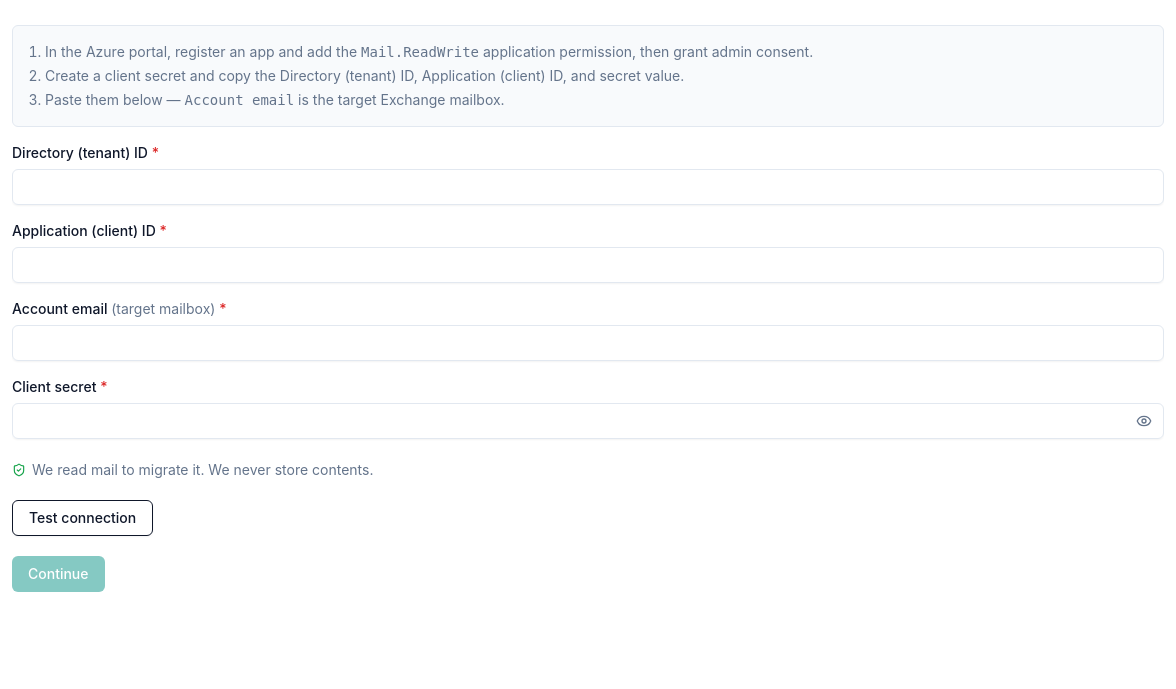
StepConnect (OAuth providers) › Graph: surfaces a provider-specific failure (admin consent / secret), not the WorkMail copy
Type "wrong" into the password field labelled "Client secret" at (588, 421), box [12,403,1164,439]
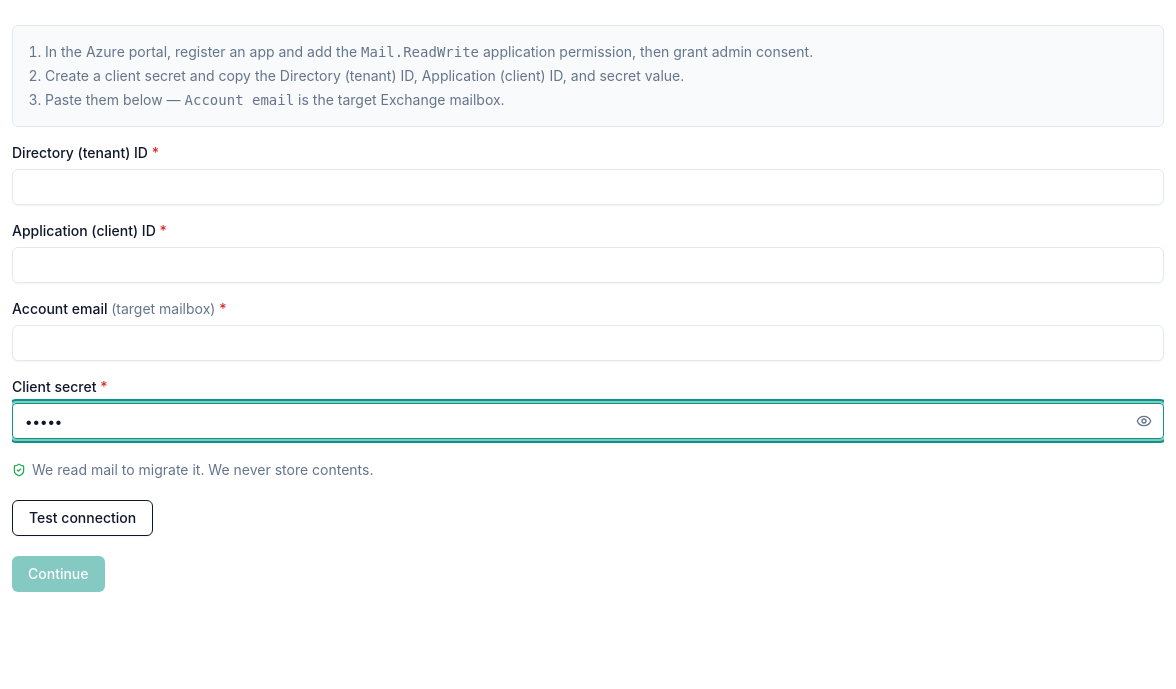
Click the button "Test connection" at (83, 518), box [12,500,153,536]
(page scrolled)
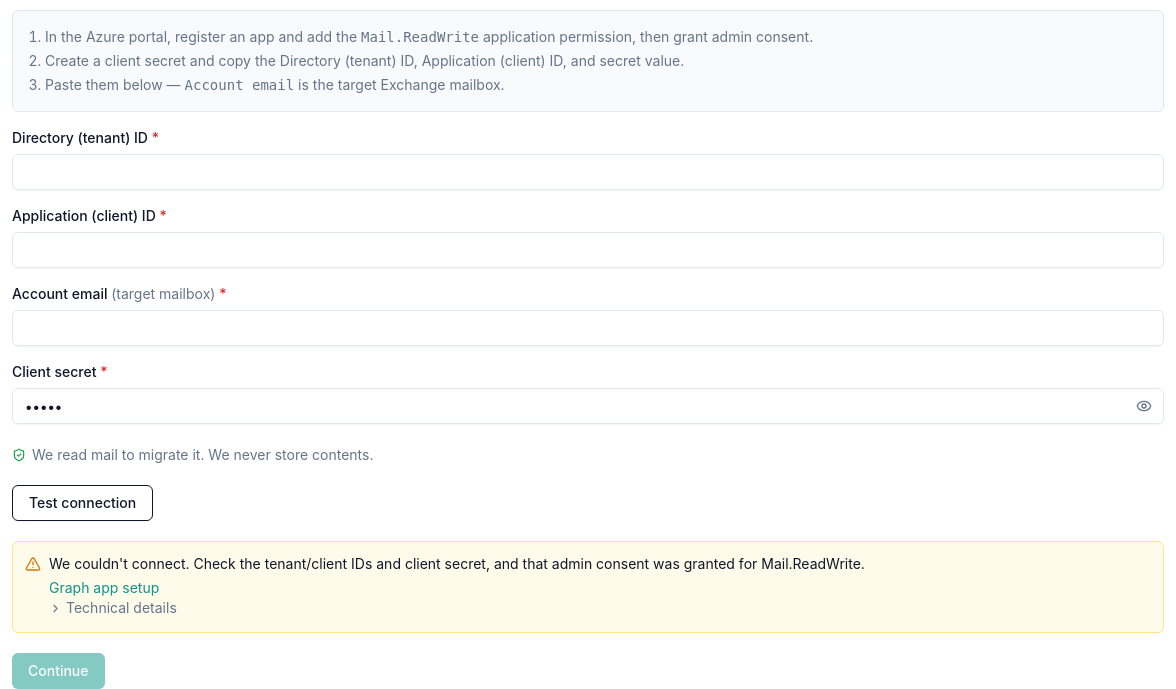
expect the button "Continue" is disabled: met, box [12,652,104,688]
expect the message shows "admin consent was granted for Mail.ReadWrite": met, box [49,555,865,572]
